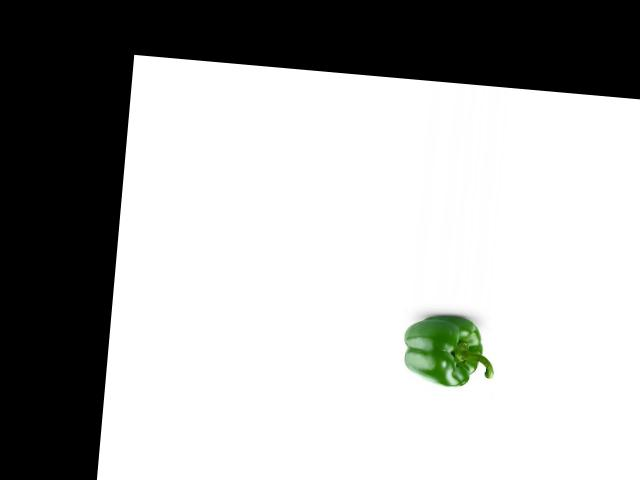bell_pepper: (397, 313, 500, 391)
